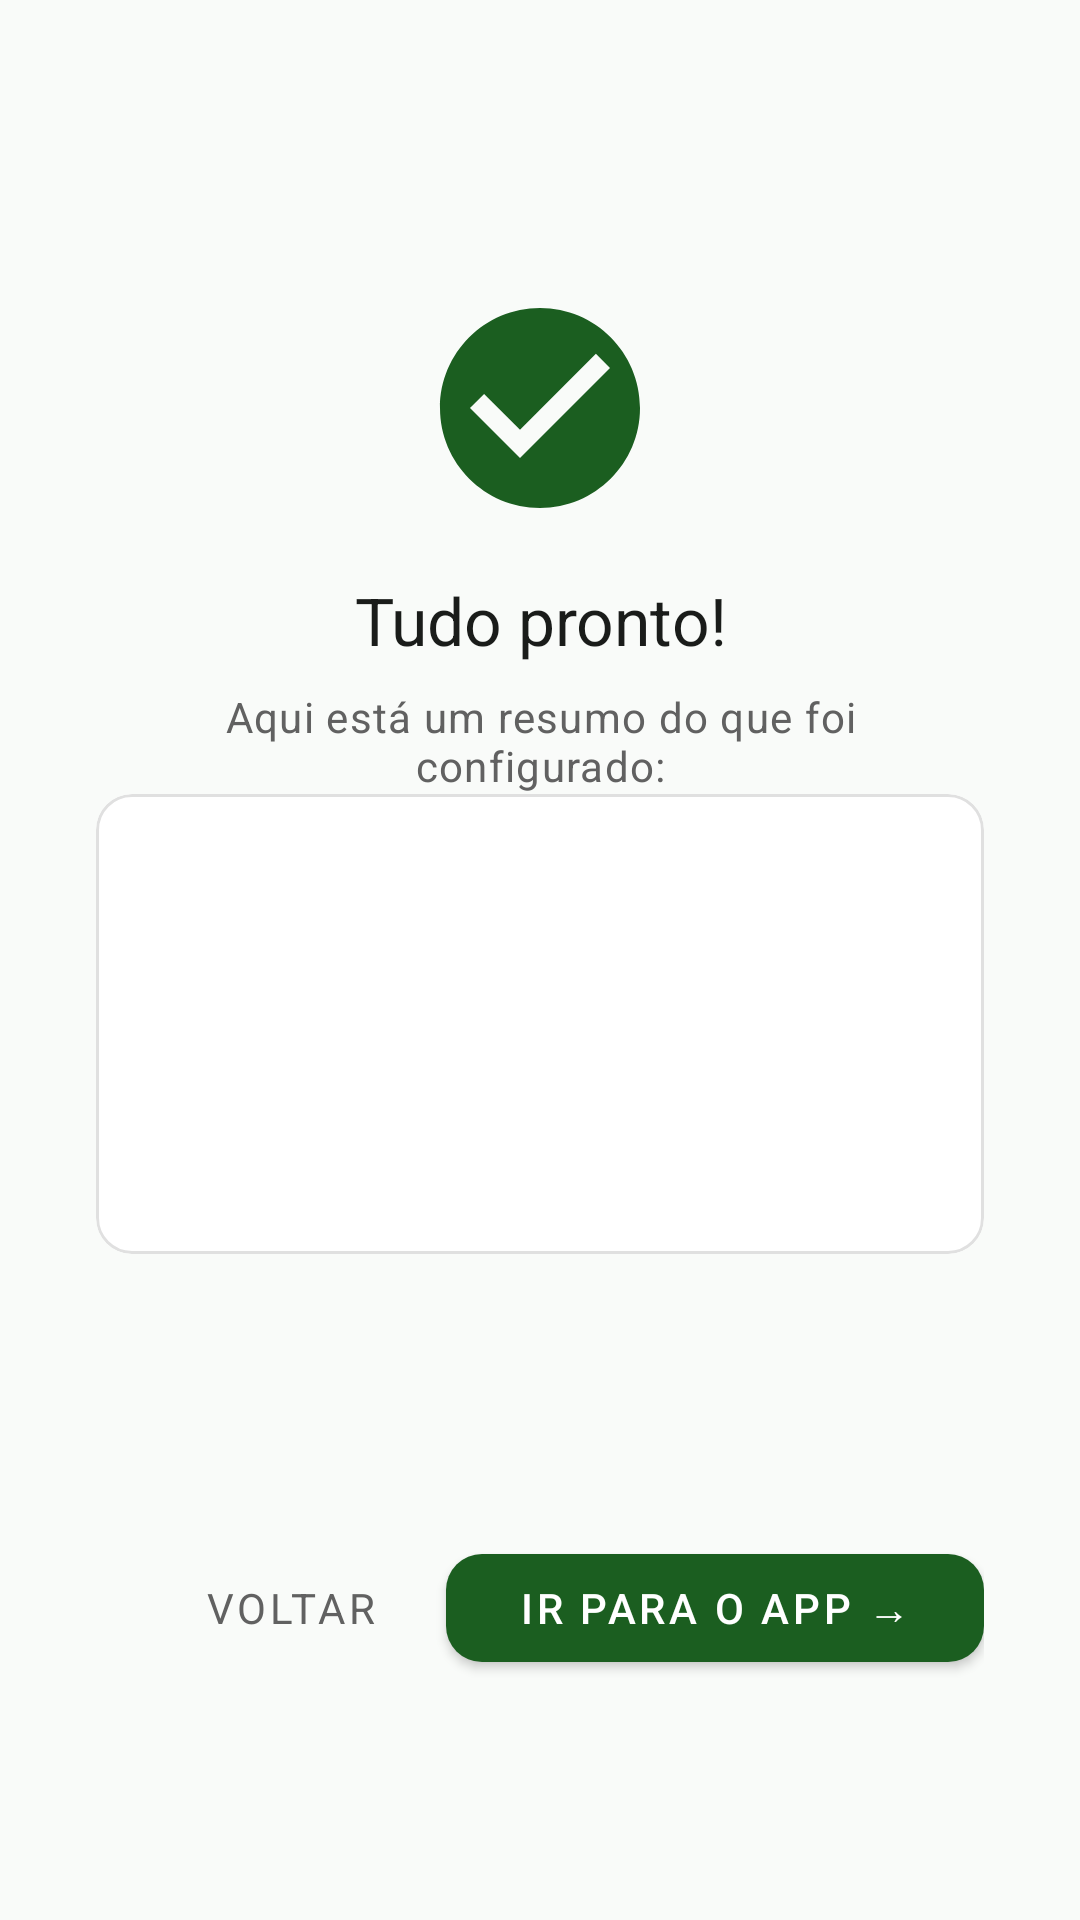

Locate icon controls on the screen. Image size 1080 x 1920, boxes as [x1,y1,x2,y2].
Sucesso: [439,308,640,508]
